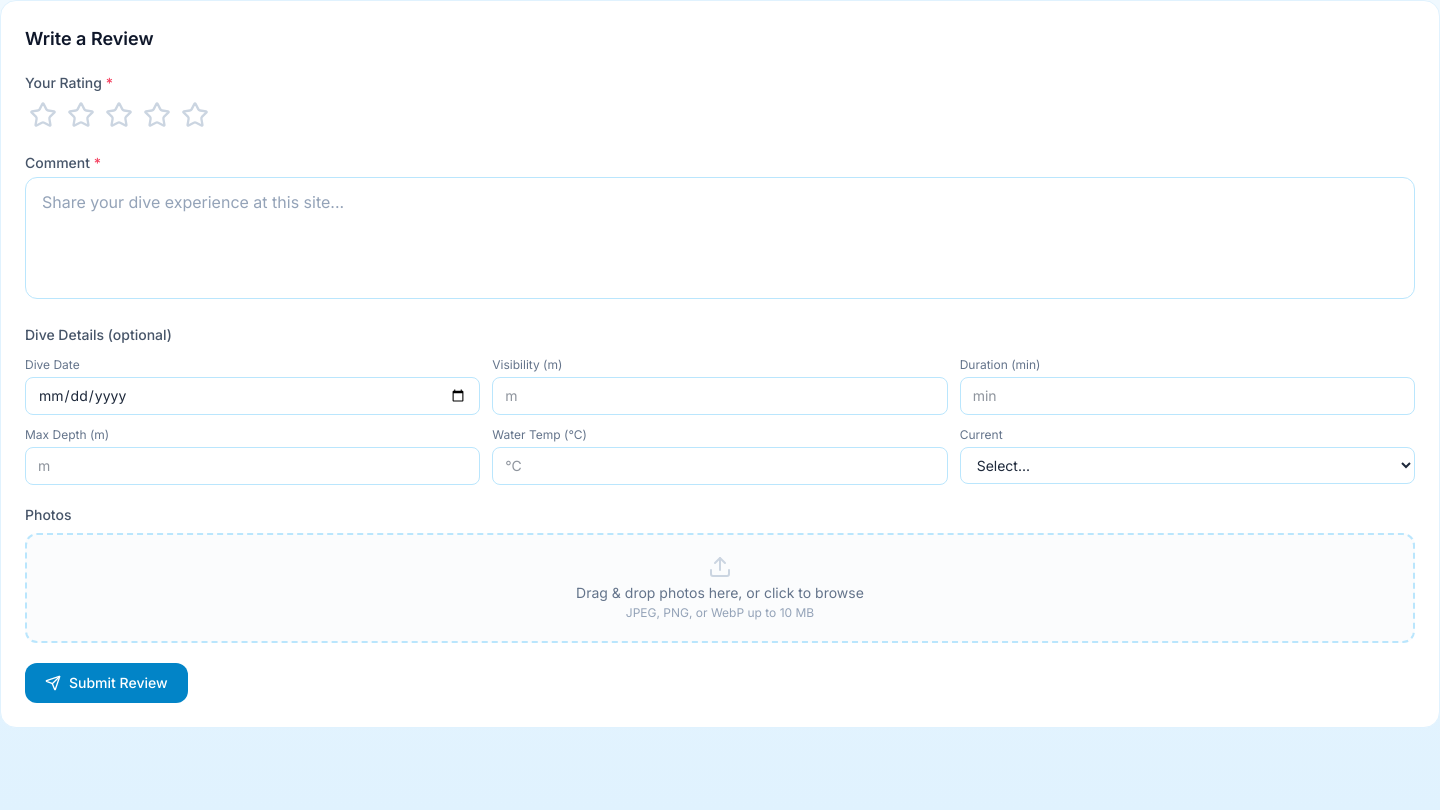
Test: ReviewForm › shows error when submitting without comment
Click the button named "4 out of 5 stars": [157, 115] box [139,97,175,133]
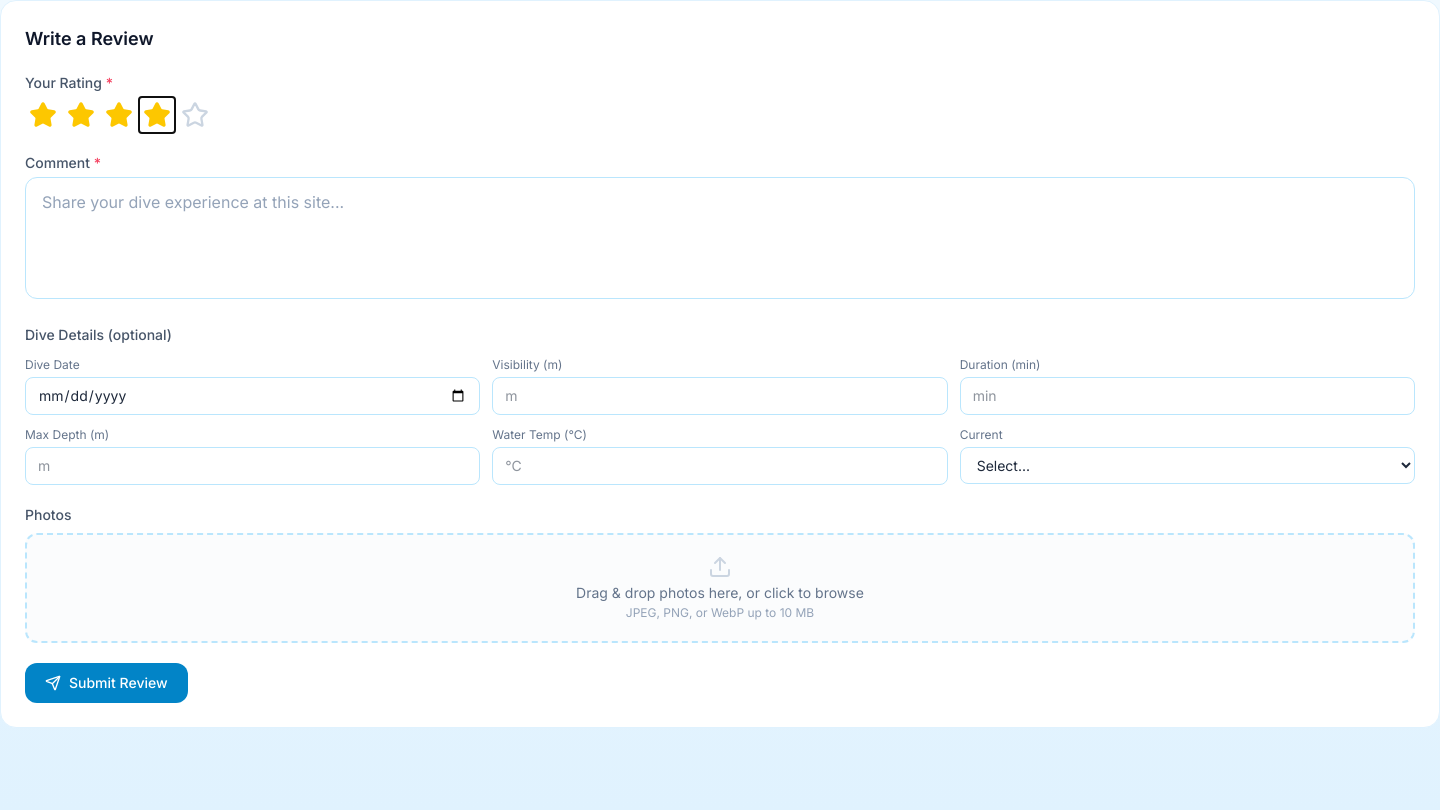
Click the button "Submit Review": [106, 683] box [25,663,188,703]
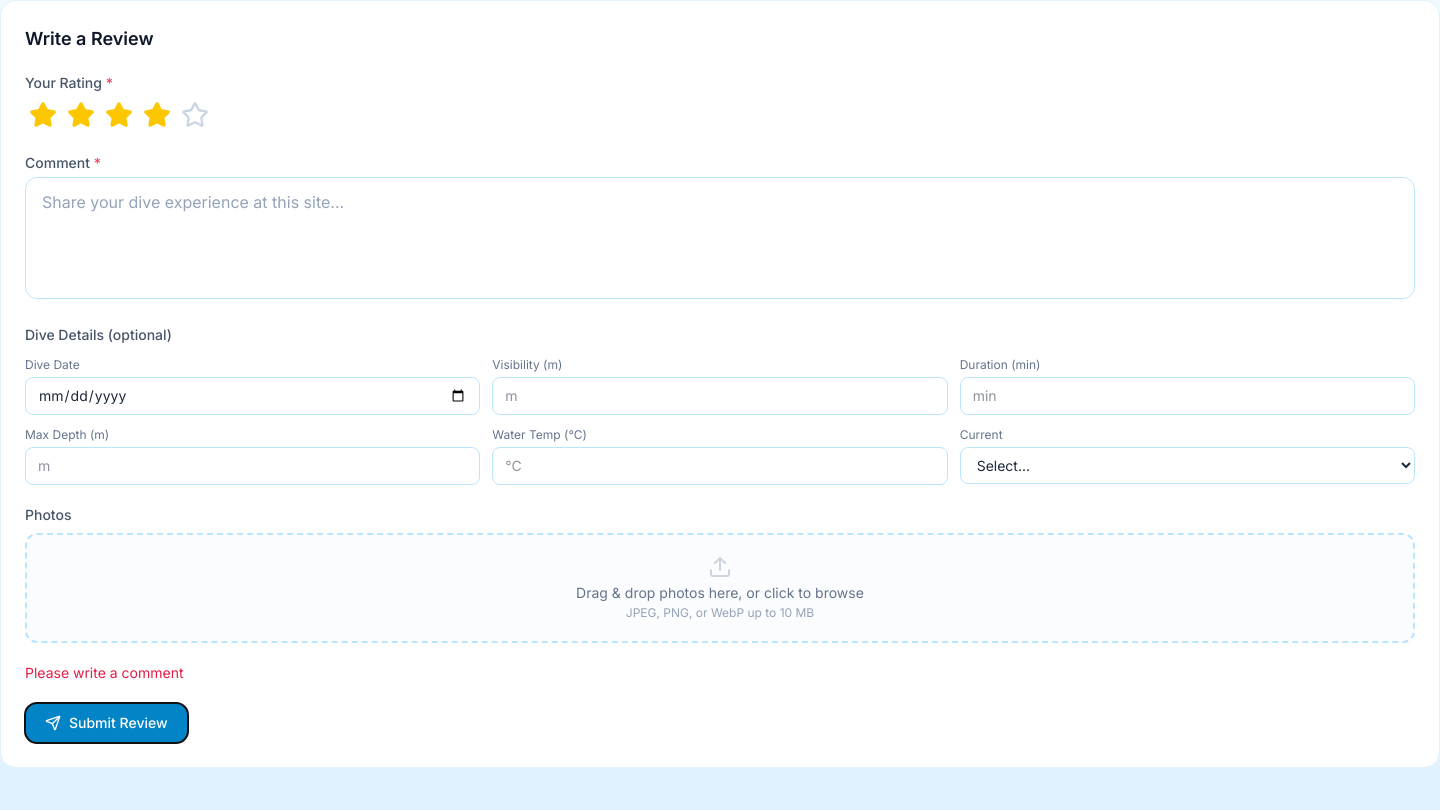
Check: the text "Please write a comment" is shown, box [25,664,184,681]
